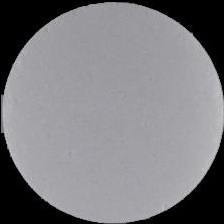60505-2654: (0, 0, 224, 224)
